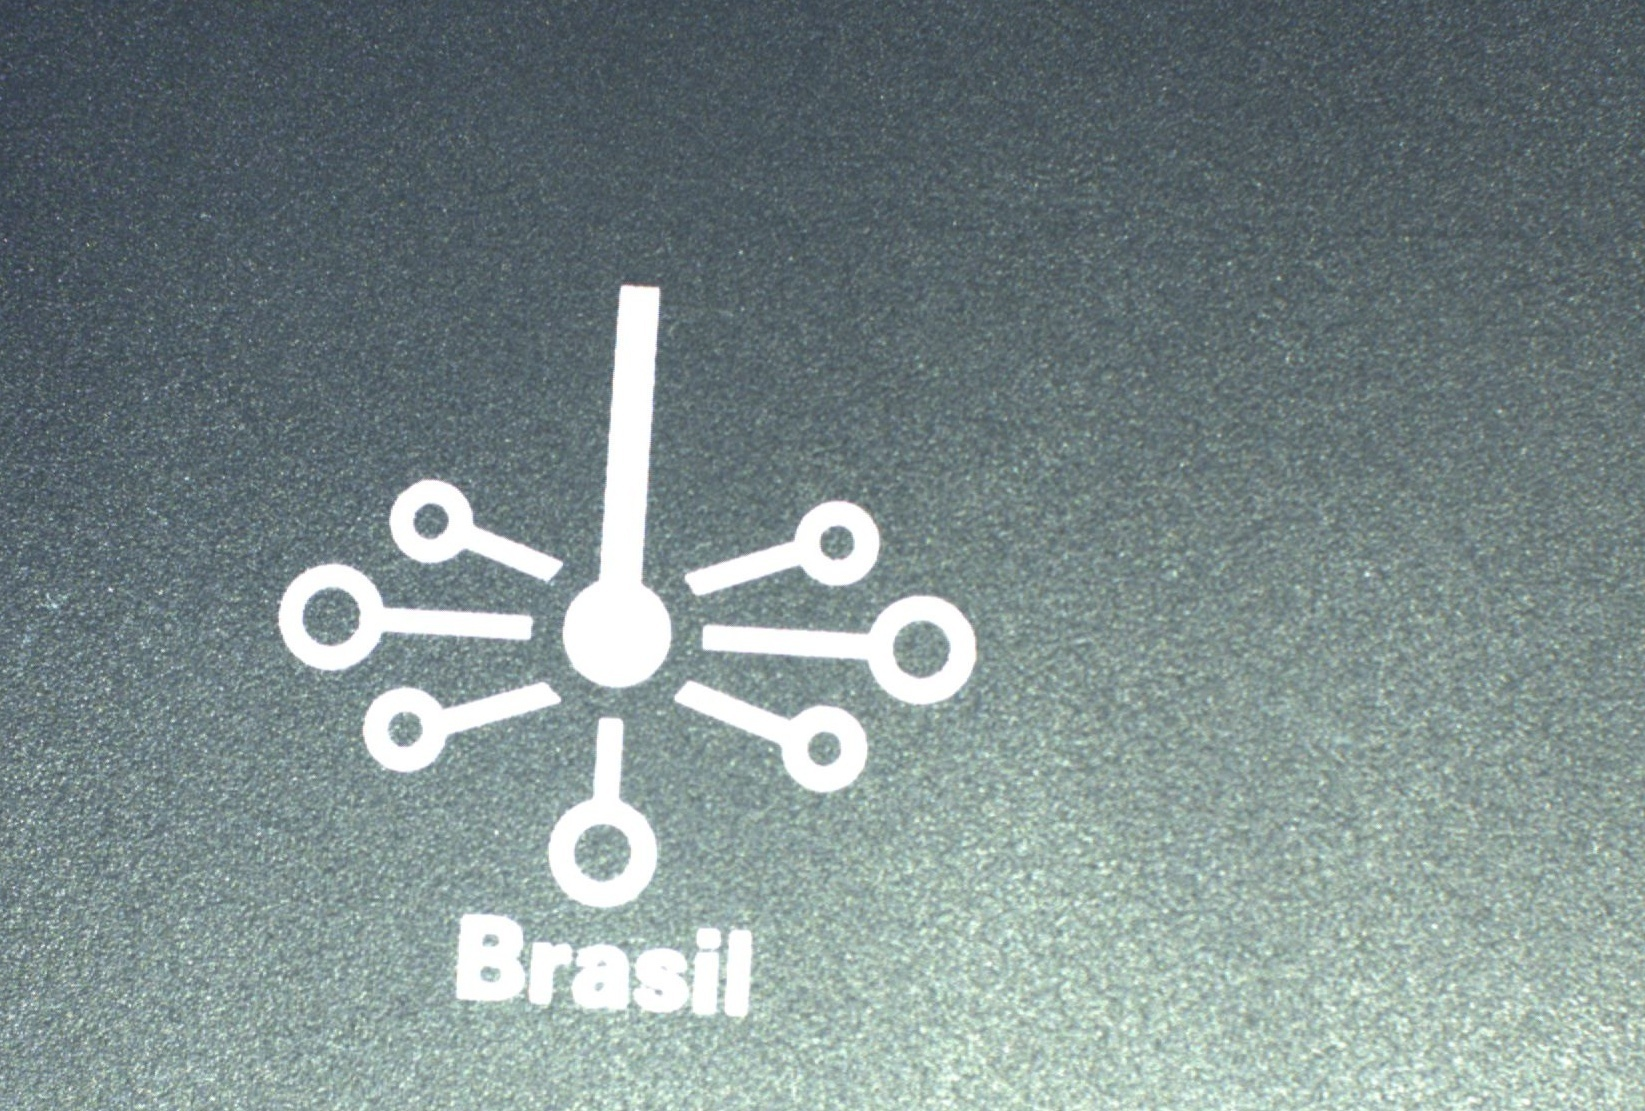BO_Brsail: (226, 277, 984, 1033)
